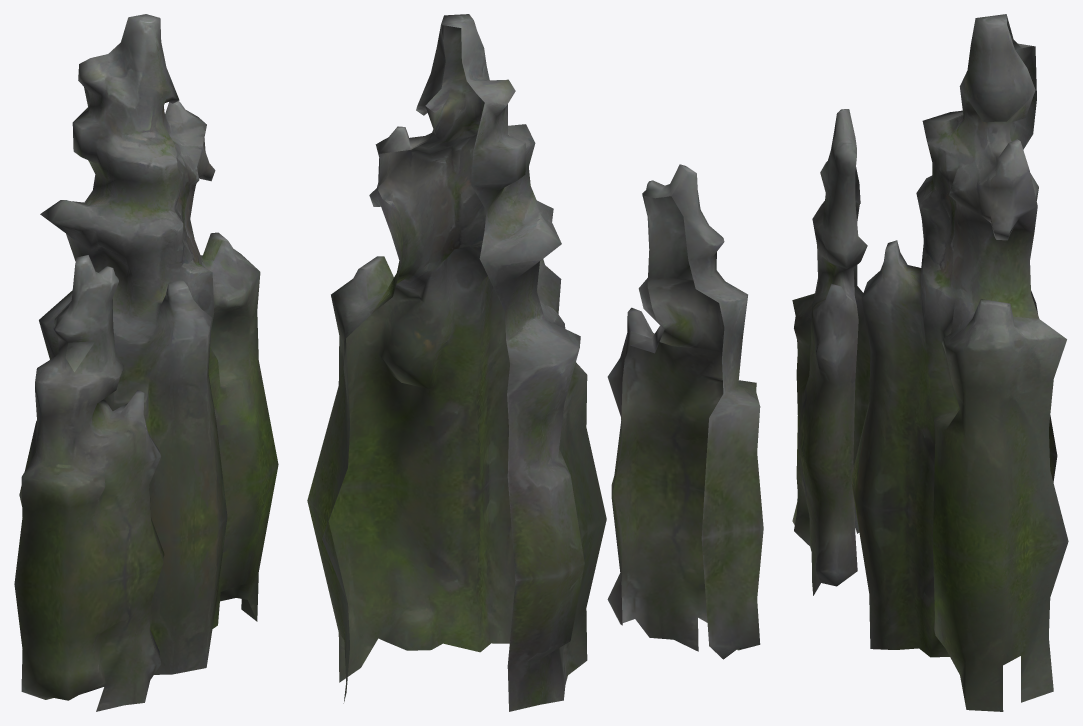
File: cj_luoyang_shi02_55_11_9721out.fbx
3 views of the same model, side by side, from view 1: azimuth 30°, elevation 25°; view 2: azimuth 150°, elevation 25°; view 3: azimuth 270°, elevation 25° (orthographic). The views are drawn at different scales.
Visible parts, largest first — view 1: cj_luoyang_shi02; view 2: cj_luoyang_shi02; view 3: cj_luoyang_shi02.
Part boxes in pixels (x1,y1,x2,y2): cj_luoyang_shi02: [14, 14, 278, 711]; cj_luoyang_shi02: [307, 14, 763, 711]; cj_luoyang_shi02: [792, 14, 1068, 711].
Size of the model in its own units: 7.65 by 13.52 by 5.28.
